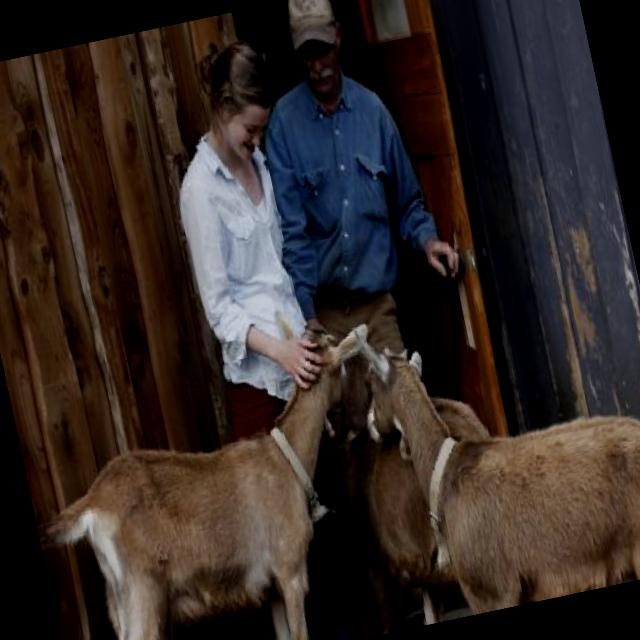Person: (232, 0, 530, 634), (145, 35, 388, 640)
